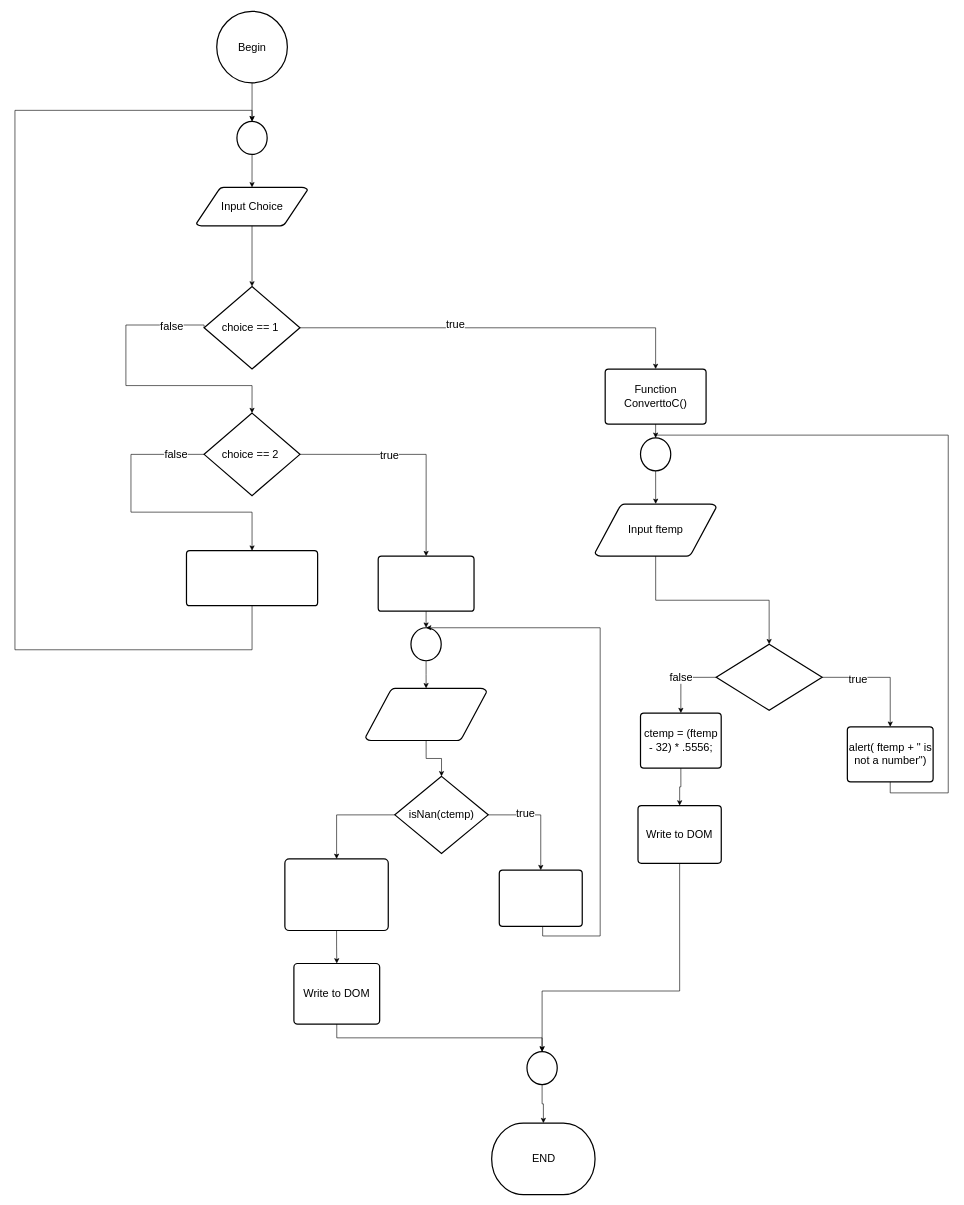
This 964x1205 diagram has some shape labels left out. The shapes that lost their labels are listed below. From the top down, each one's centre as x and y in pixels, then its label:
[252,578]: Alert("Not a Valid Choice, try again")
[425,583]: Function ConverttoF()
[768,677]: isNaN(ftemp)
[426,714]: Input ctemp
[336,894]: ftemp = (ctemp*1.8) + 32;
[540,898]: alert( ctemp + " is not a number")
